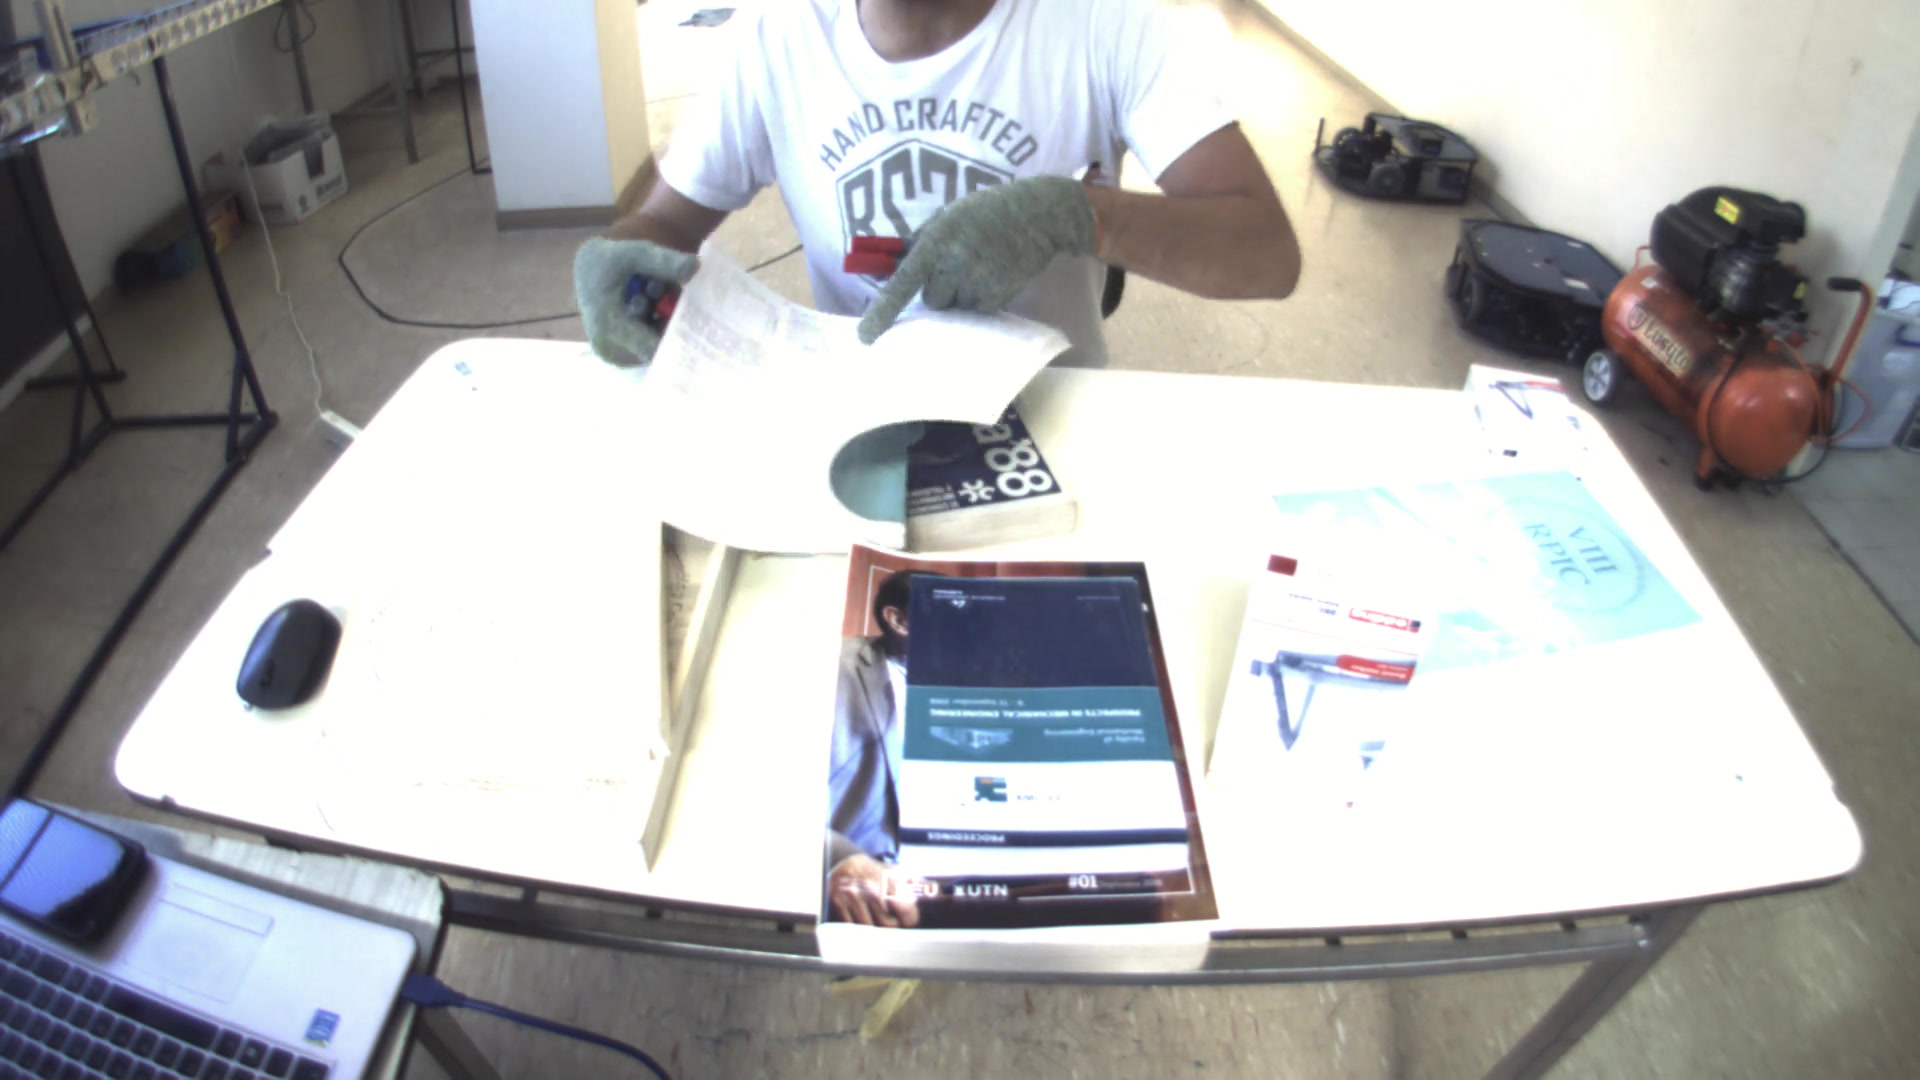hand: (844, 164, 1097, 338), (559, 225, 694, 361)
